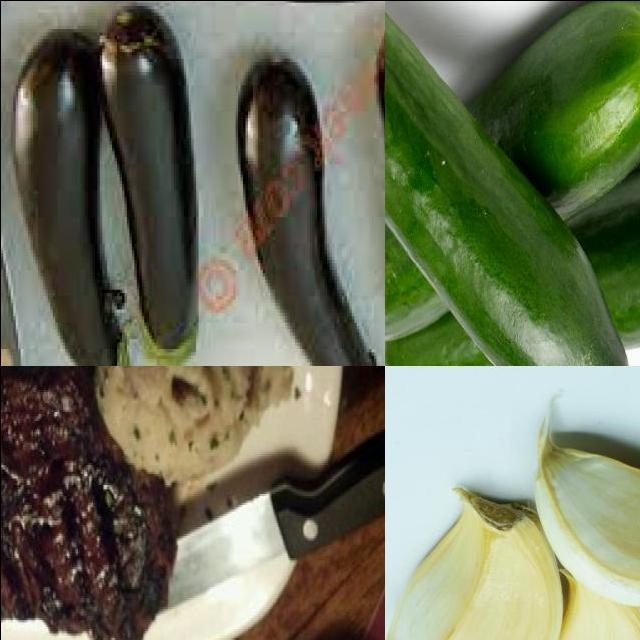cucumber: (385, 1, 632, 366), (385, 1, 640, 347), (385, 158, 640, 366)
eggplant: (244, 66, 385, 366), (14, 39, 135, 366), (103, 13, 204, 366)
garlic: (385, 478, 564, 640), (521, 442, 640, 614), (494, 552, 640, 640)
